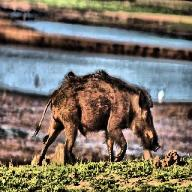boar: (31, 68, 161, 166)
